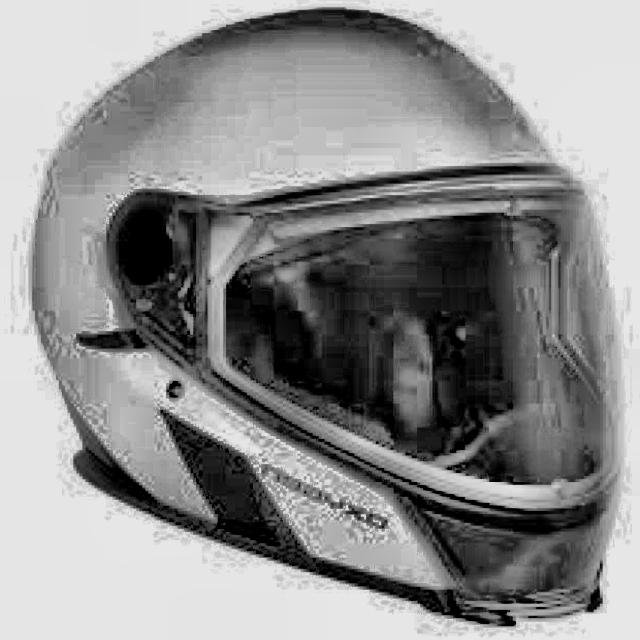Helmet: (31, 4, 630, 630)
